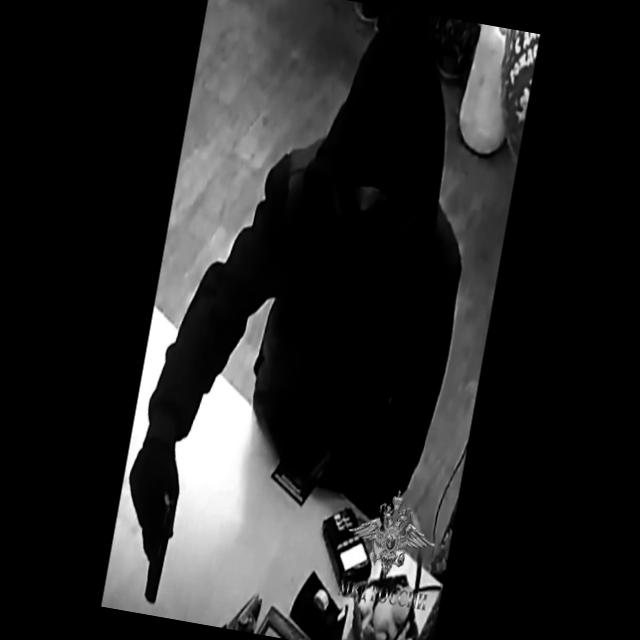gun: (110, 435, 190, 608)
person with a gun: (111, 36, 492, 640)
